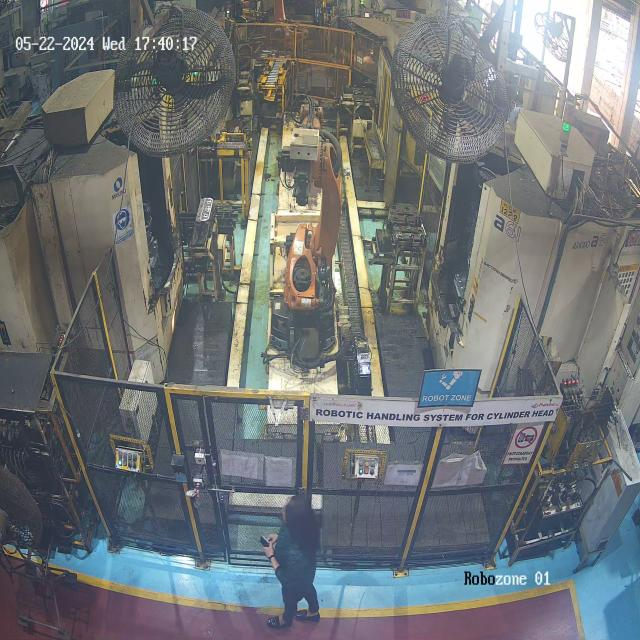person: (243, 482, 334, 632)
